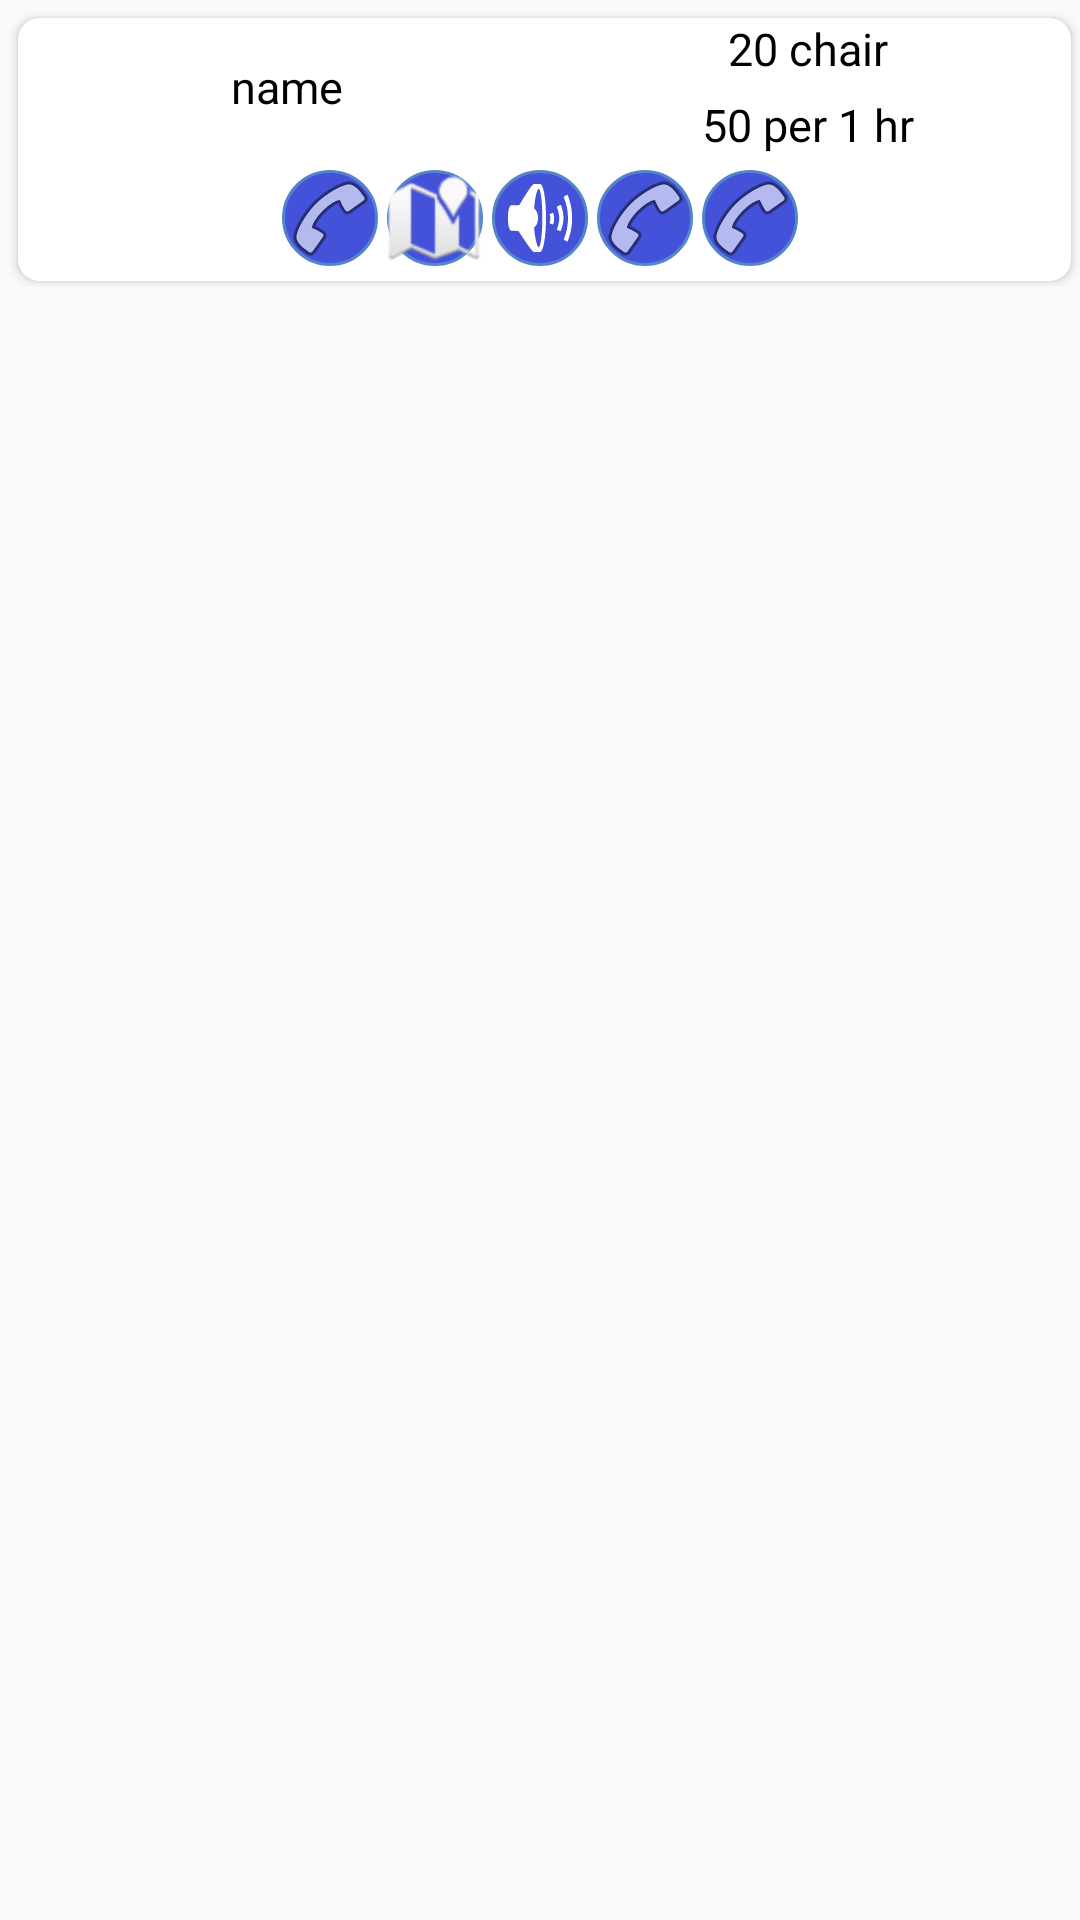

Named icons in this screenshot (1080 × 1920) and their centers, [x,y]:
call: [330,218], [645,218], [750,218]
lock silent mode off: [540,218]
map: [435,218]
